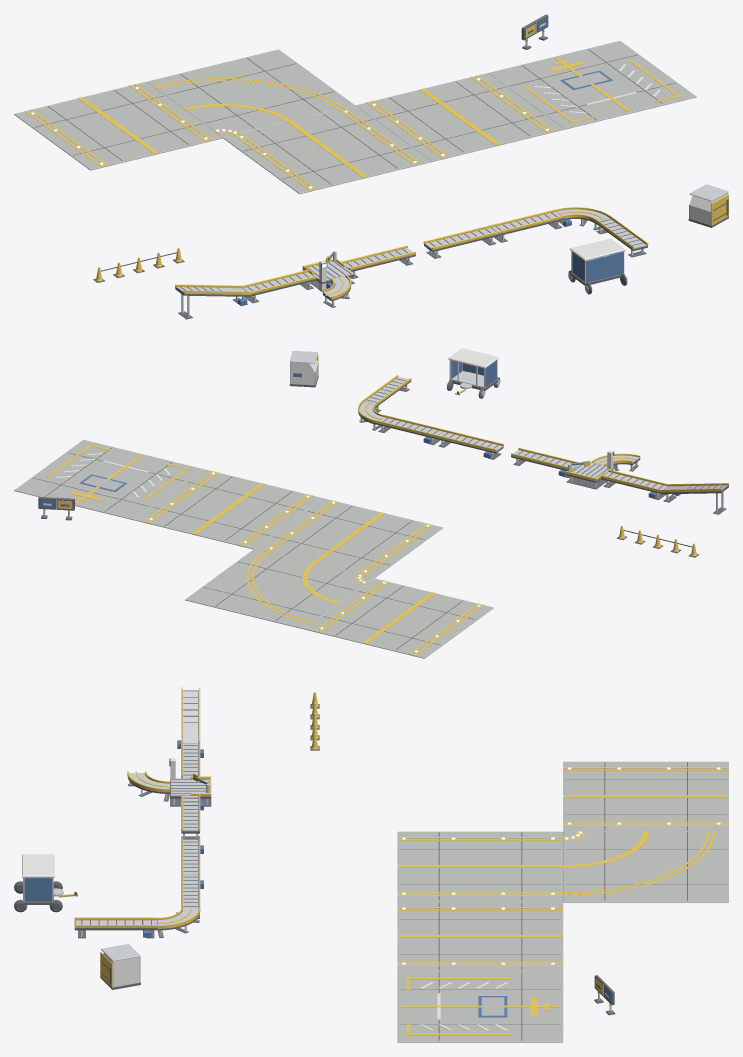
Rendered from airport-terminal-and-ground-operations-apron-and-belt--2b78524e__26096.glb.
3 views of the same model, one above another, from view 1: azimuth 30°, elevation 25°; view 2: azimuth 150°, elevation 25°; view 3: azimuth 270°, elevation 25° (orthographic). The views are drawn at different scales.
Visible parts, largest first — view 1: 012-taxiway-tile-curve/0, 013-taxiway-tile/0, 009-taxiway-tile/0, 011-stand-marking-tile/0, 010-taxiway-tile/0, 009-taxiway-tile/2, 010-taxiway-tile/2, 013-taxiway-tile/2, 012-taxiway-tile-curve/2, 015-baggage-cart/2, 011-stand-marking-tile/2, 015-baggage-cart/3 (+5 smaller); view 2: 012-taxiway-tile-curve/0, 013-taxiway-tile/0, 010-taxiway-tile/0, 009-taxiway-tile/0, 011-stand-marking-tile/0, 013-taxiway-tile/2, 009-taxiway-tile/2, 010-taxiway-tile/2, 012-taxiway-tile-curve/2, 011-stand-marking-tile/2, 015-baggage-cart/3, 014-uld-container/0 (+2 smaller); view 3: 012-taxiway-tile-curve/0, 011-stand-marking-tile/0, 009-taxiway-tile/0, 010-taxiway-tile/0, 013-taxiway-tile/0, 009-taxiway-tile/2, 010-taxiway-tile/2, 013-taxiway-tile/2, 011-stand-marking-tile/2, 012-taxiway-tile-curve/2, 006-baggage-belt-incline/1, 015-baggage-cart/3 (+7 smaller).
Boxes of the visible parts, box(x1,y1,x2,y2) form: 012-taxiway-tile-curve/0: box(147, 49, 354, 137); 013-taxiway-tile/0: box(14, 81, 222, 170); 009-taxiway-tile/0: box(223, 105, 431, 194); 011-stand-marking-tile/0: box(488, 41, 696, 129); 010-taxiway-tile/0: box(356, 73, 564, 161); 009-taxiway-tile/2: box(234, 107, 421, 190); 010-taxiway-tile/2: box(366, 75, 553, 158); 013-taxiway-tile/2: box(25, 84, 211, 167); 012-taxiway-tile-curve/2: box(153, 78, 344, 134); 015-baggage-cart/2: box(572, 252, 623, 282); 011-stand-marking-tile/2: box(524, 57, 680, 122); 015-baggage-cart/3: box(569, 238, 626, 260); 012-taxiway-tile-curve/0: box(185, 549, 373, 629); 013-taxiway-tile/0: box(304, 578, 493, 658); 010-taxiway-tile/0: box(134, 469, 322, 549); 009-taxiway-tile/0: box(254, 498, 442, 578); 011-stand-marking-tile/0: box(14, 439, 202, 520); 013-taxiway-tile/2: box(314, 580, 483, 655); 009-taxiway-tile/2: box(264, 500, 433, 575); 010-taxiway-tile/2: box(144, 471, 313, 546); 012-taxiway-tile-curve/2: box(246, 551, 368, 624); 011-stand-marking-tile/2: box(47, 444, 188, 503); 015-baggage-cart/3: box(448, 348, 499, 368); 014-uld-container/0: box(291, 360, 318, 385); 012-taxiway-tile-curve/0: box(563, 831, 728, 902); 011-stand-marking-tile/0: box(397, 971, 563, 1042); 009-taxiway-tile/0: box(397, 831, 563, 901); 010-taxiway-tile/0: box(397, 901, 563, 971); 013-taxiway-tile/0: box(563, 761, 728, 831); 009-taxiway-tile/2: box(397, 837, 563, 895); 010-taxiway-tile/2: box(397, 907, 563, 965); 013-taxiway-tile/2: box(563, 767, 728, 825); 011-stand-marking-tile/2: box(402, 977, 559, 1035); 012-taxiway-tile-curve/2: box(563, 831, 715, 895); 006-baggage-belt-incline/1: box(183, 689, 198, 743); 015-baggage-cart/3: box(22, 854, 54, 877).
Size of the model in its own units: 38.63 by 2.02 by 34.53.
